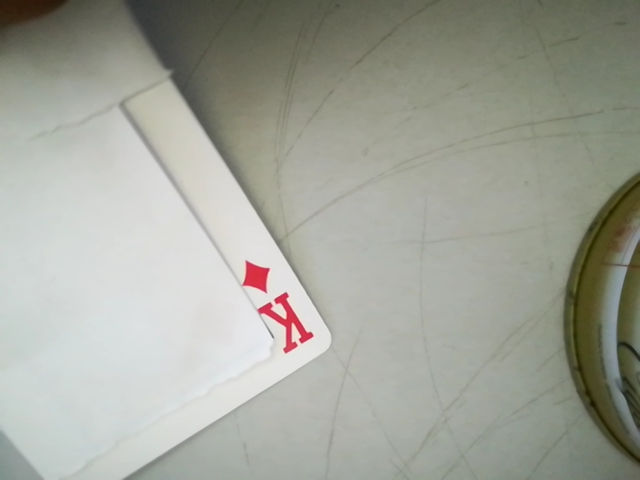fk k: (235, 252, 314, 356)
